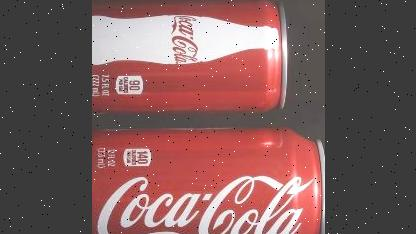Can: (91, 125, 324, 234), (91, 0, 287, 116)
